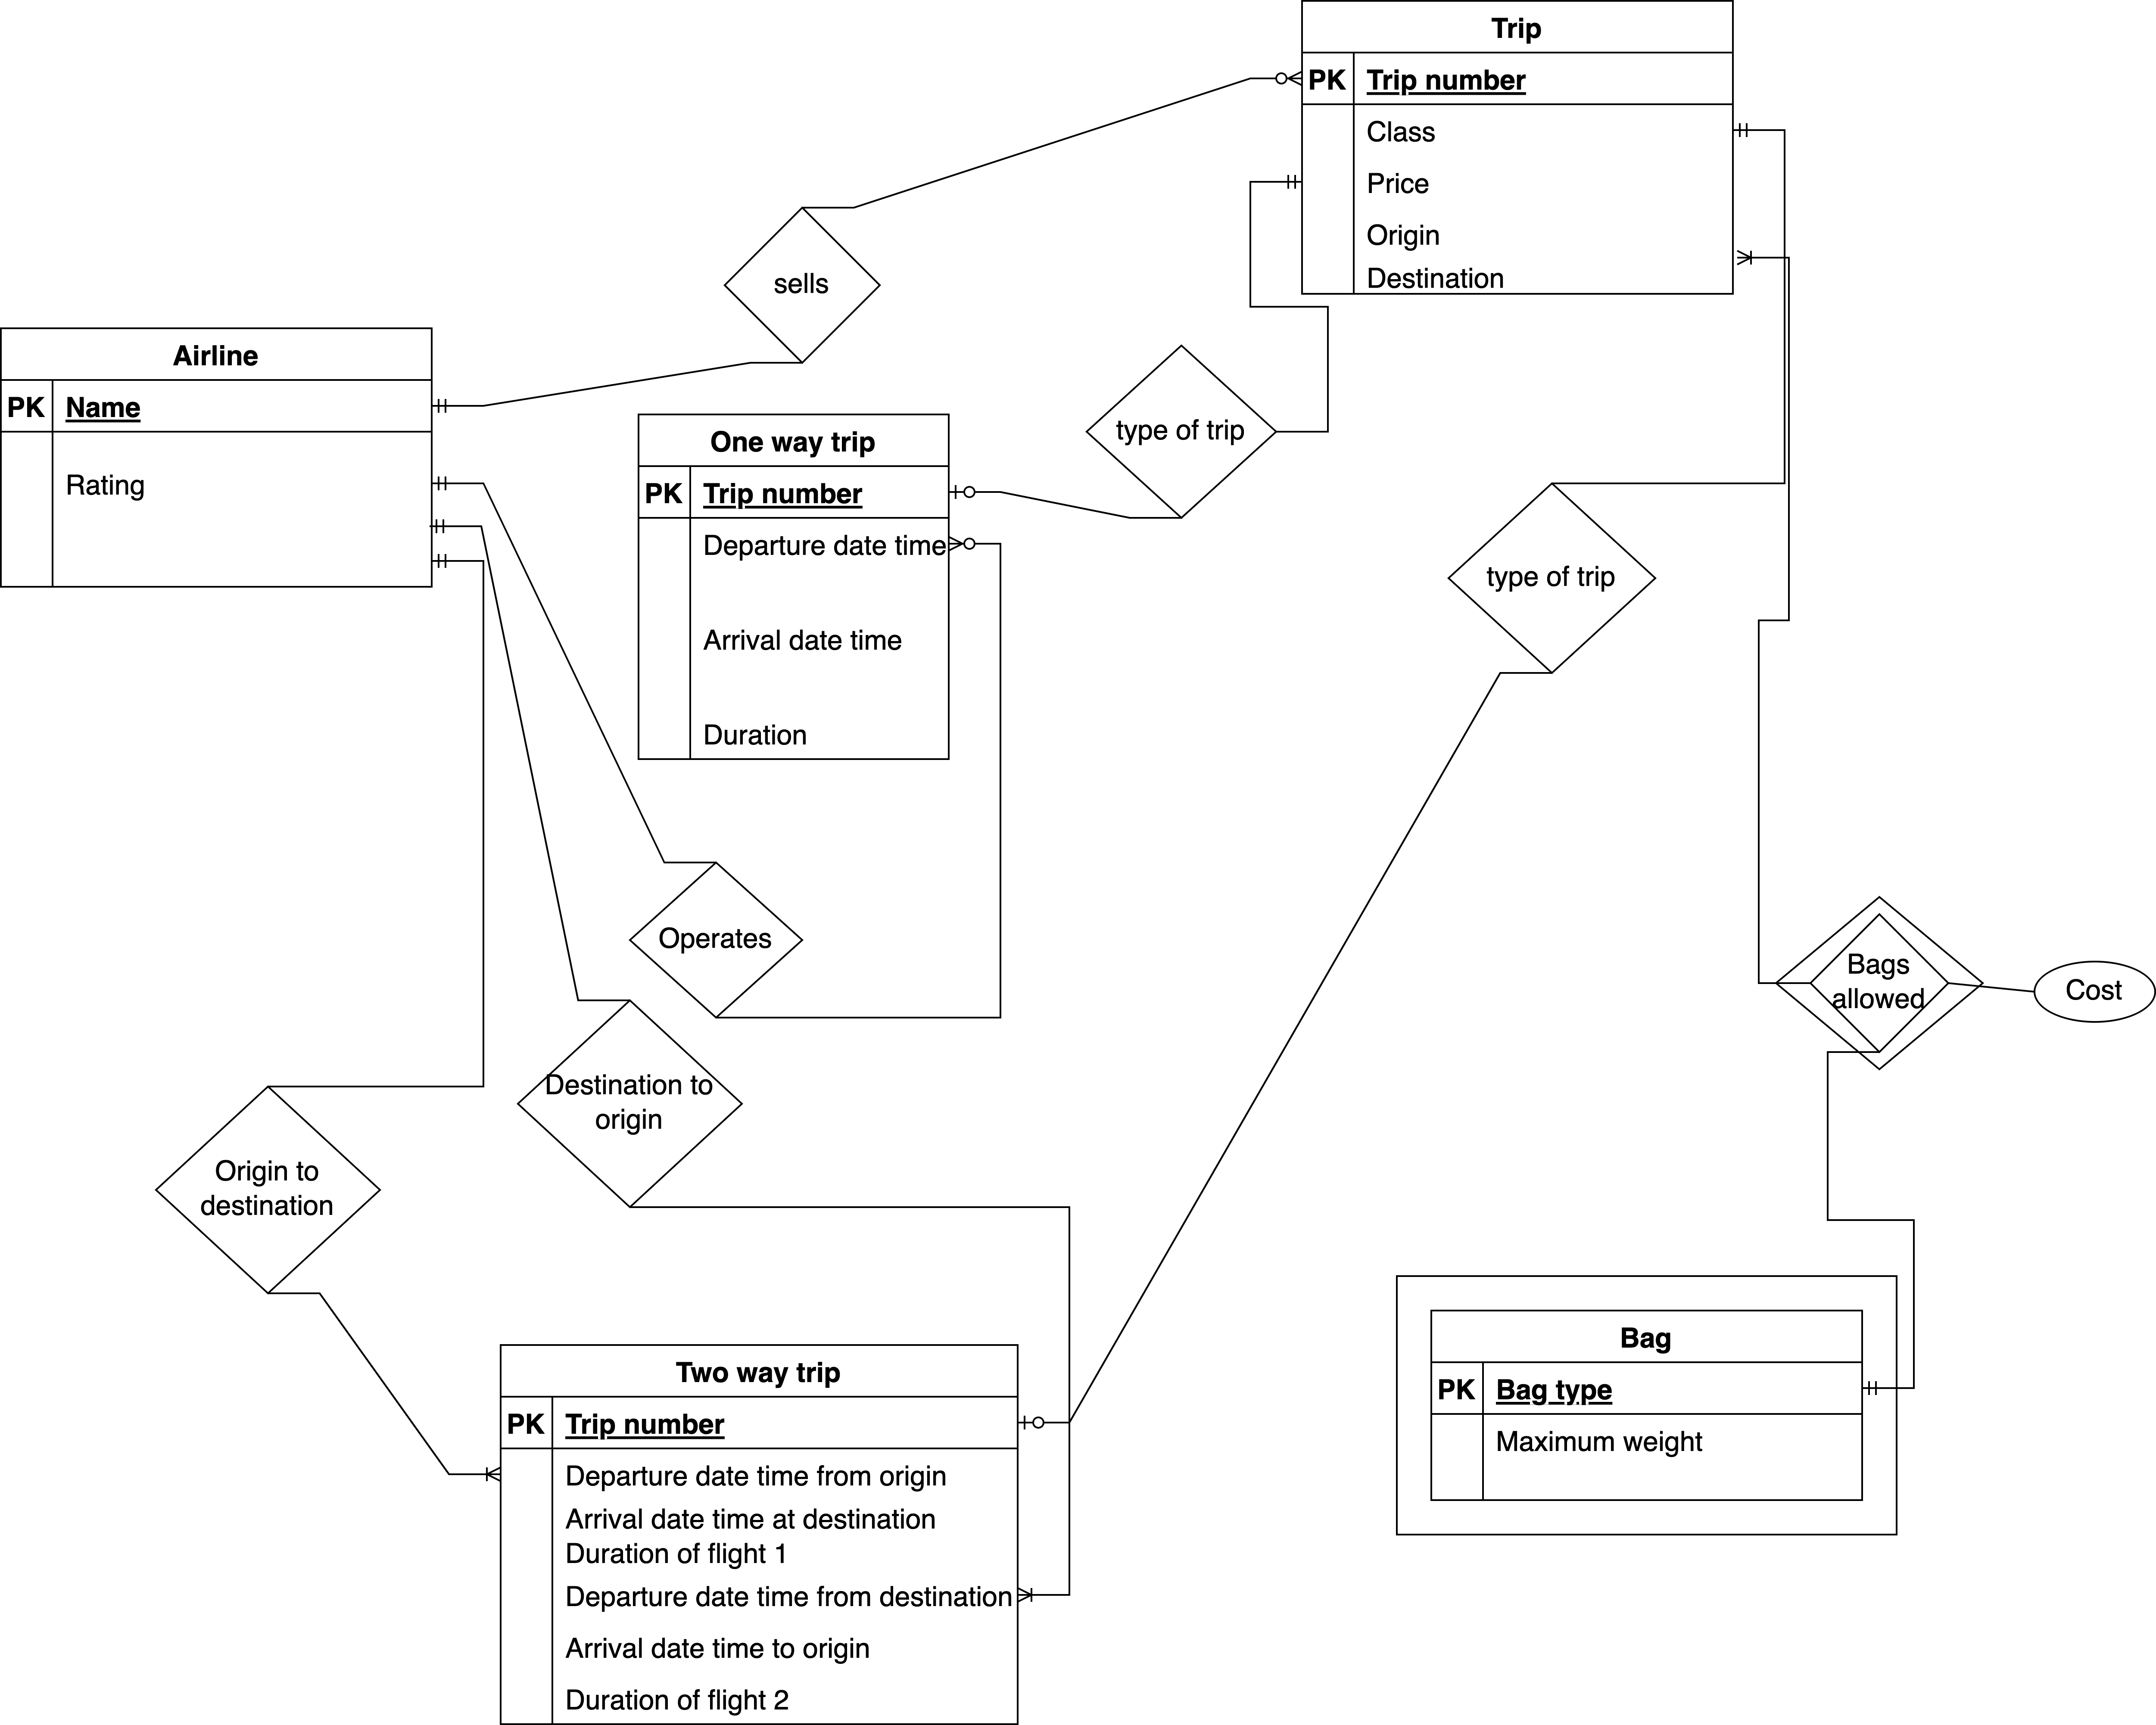entity: (498, 1347, 1017, 1725), (1302, 2, 1739, 290), (4, 324, 436, 586), (634, 414, 952, 759)
ident_rel: (1776, 896, 1982, 1072)
many: (447, 1464, 500, 1489), (1251, 70, 1302, 90), (1735, 248, 1788, 266)
one: (1864, 1380, 1920, 1399), (431, 553, 484, 572), (1250, 172, 1306, 190), (429, 475, 482, 493), (950, 484, 1003, 502), (1016, 1415, 1074, 1431), (1734, 123, 1785, 141), (431, 398, 486, 414), (433, 519, 479, 533)
rel: (153, 1088, 380, 1294), (521, 1000, 739, 1211), (1448, 482, 1656, 671), (1084, 343, 1276, 517), (627, 861, 801, 1019), (725, 209, 882, 366)
rel_attr: (2031, 958, 2156, 1024)
weak_entity: (1396, 1278, 1899, 1540)
